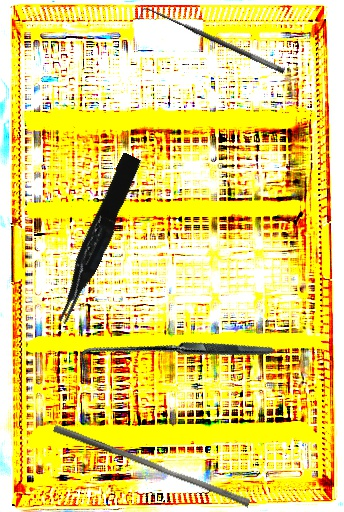Hook Surgical: (73, 256, 276, 457), (137, 1, 287, 85)
Pusher: (50, 424, 253, 508)
Tissue Forceps: (44, 152, 149, 326)
